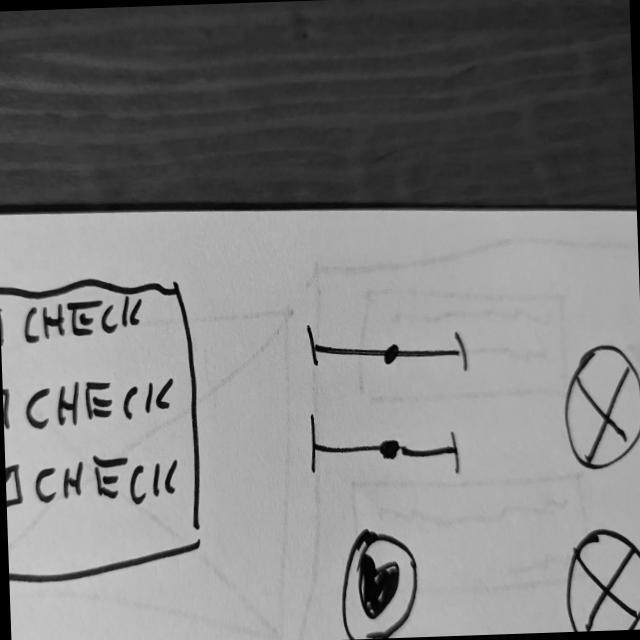container: (1, 273, 207, 588), (1, 295, 144, 354)
